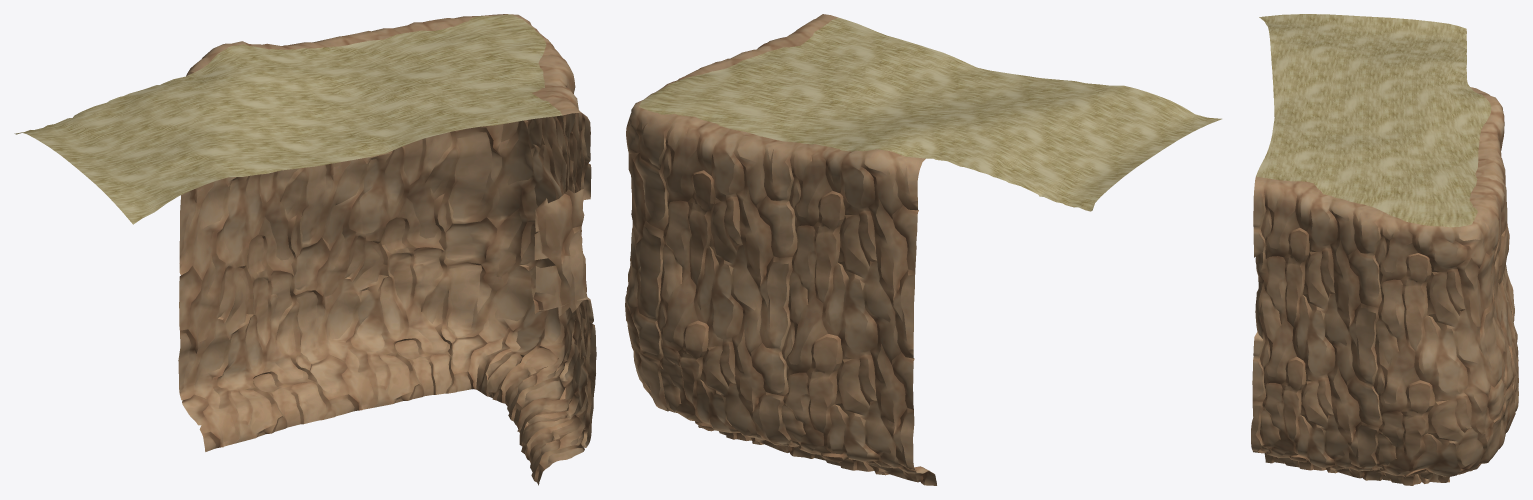
File: SM_ENV_KNFRST_Cliff_Ae.FBX
3 renders of one model, left to right at view 1: azimuth 30°, elevation 25°; view 2: azimuth 150°, elevation 25°; view 3: azimuth 270°, elevation 25°, orthographic. The views are drawn at different scales.
Visible parts, largest first — view 1: SM_ENV_KNFRST_Cliff_Ae; view 2: SM_ENV_KNFRST_Cliff_Ae; view 3: SM_ENV_KNFRST_Cliff_Ae.
Boxes of the visible parts, x1=… form: SM_ENV_KNFRST_Cliff_Ae: x1=14, y1=14, x2=596, y2=485; SM_ENV_KNFRST_Cliff_Ae: x1=625, y1=14, x2=1221, y2=485; SM_ENV_KNFRST_Cliff_Ae: x1=1251, y1=14, x2=1518, y2=485.
Size of the model in its own units: 5793 by 3928 by 3161.
